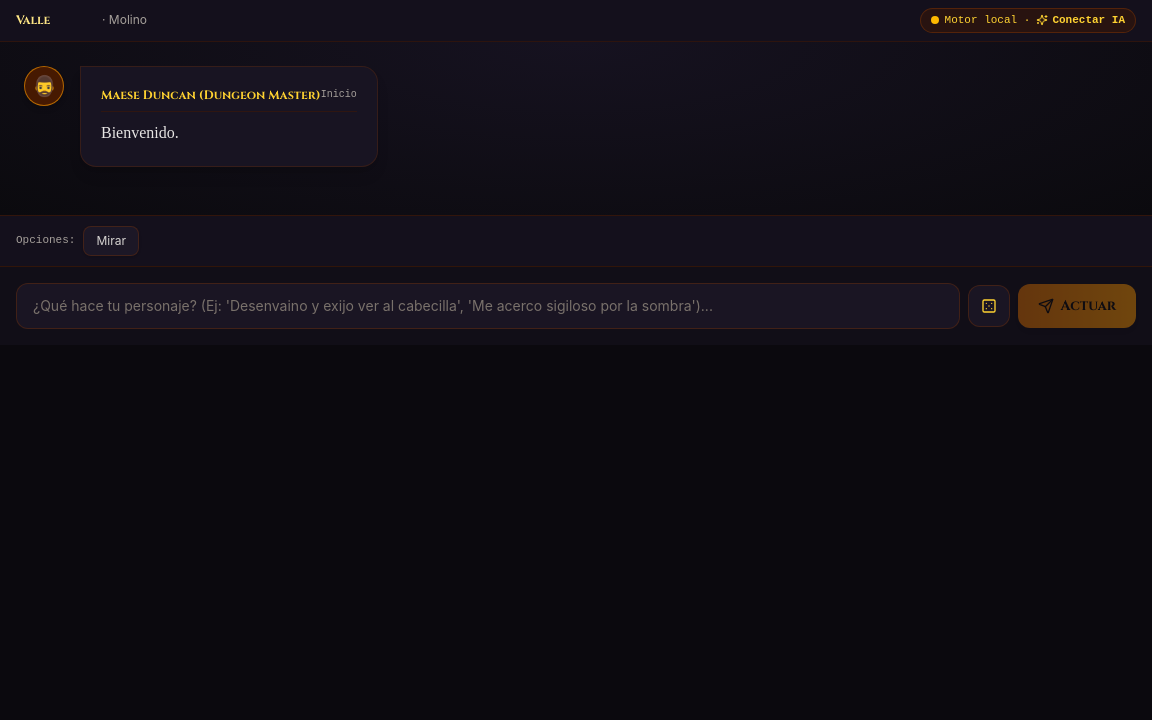
StoryStream › the 🎲 button offers checks with the sheet and the dice tray
What coordinates should you click on to do the following:
click the button named "Tiradas: habilidades con la ficha y bandeja de dados"
I would click on:
 (990, 306)
Its box is [968,285,1010,327].
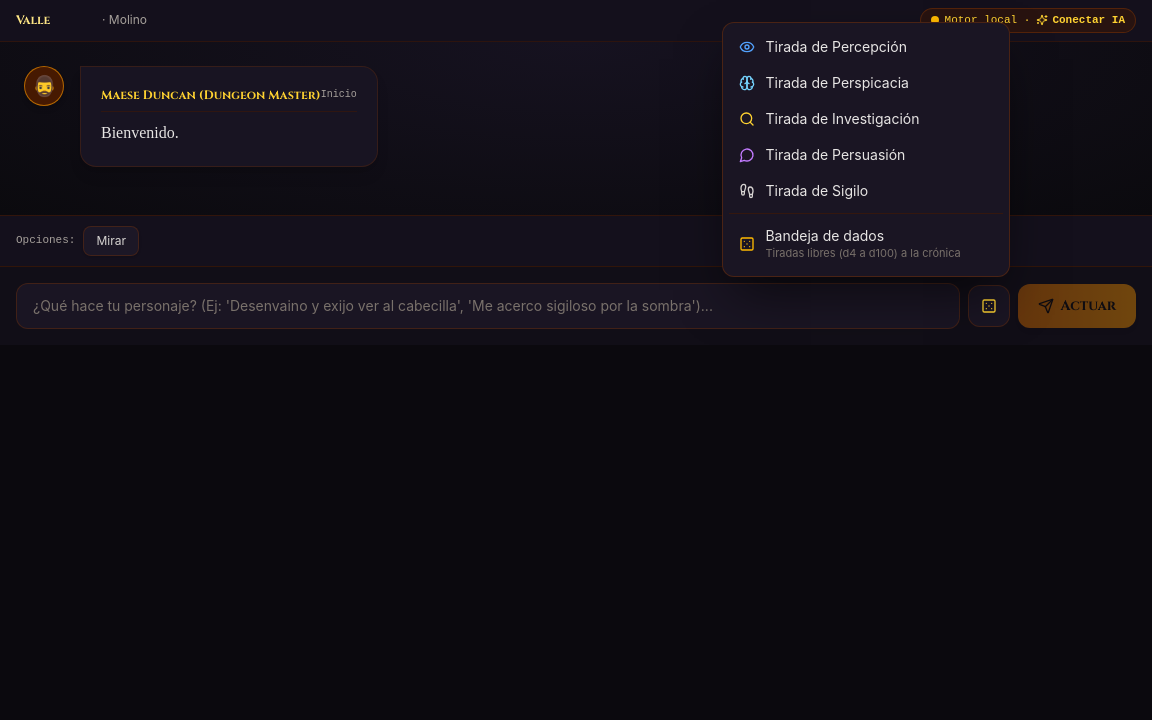
What coordinates should you click on to do the following:
click the menu item "Tirada de Percepción"
I would click on:
 (866, 47)
Its box is [730,29,1004,65].
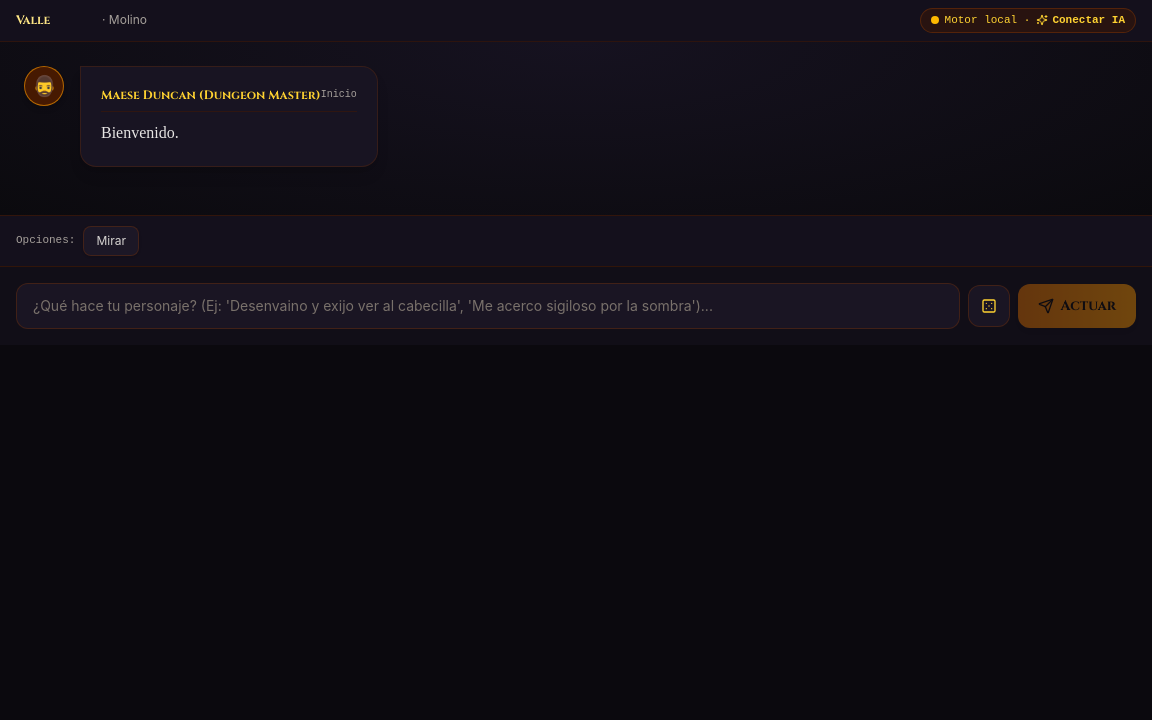
What coordinates should you click on to do the following:
click the button named "Tiradas: habilidades con la ficha y bandeja de dados"
I would click on:
 (990, 306)
Its box is [968,285,1010,327].
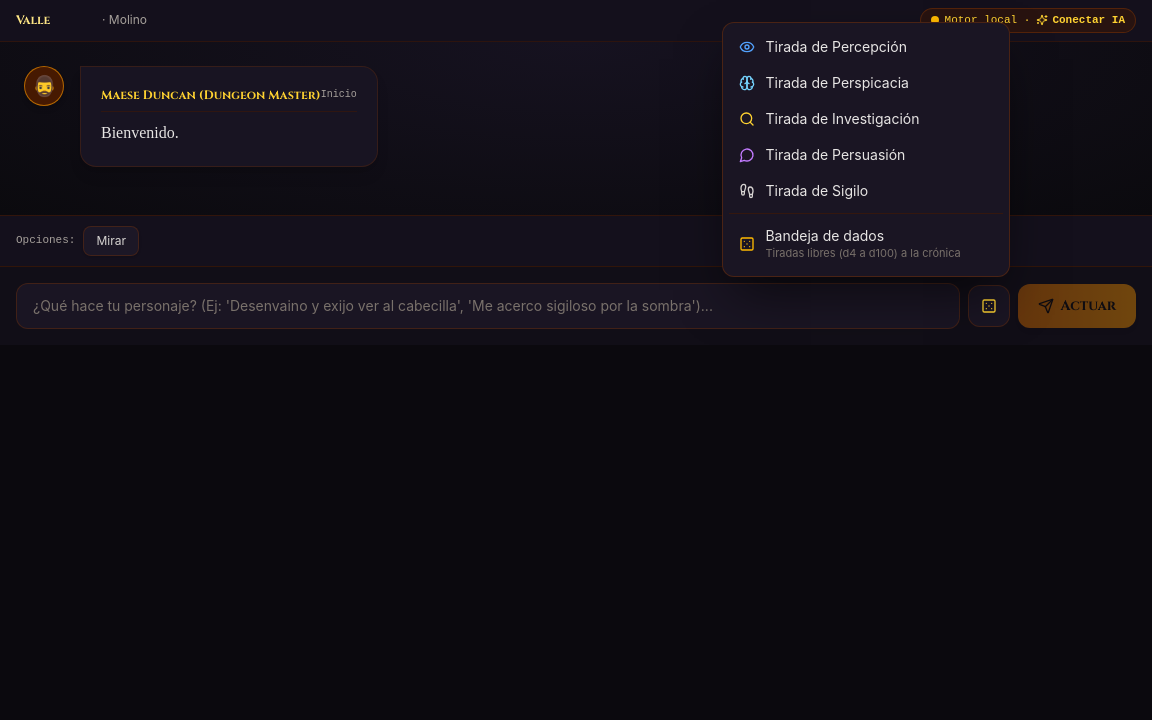
What coordinates should you click on to do the following:
click the menu item "Bandeja de dados Tiradas libres (d4 a d100) a la crónica"
I would click on:
 (866, 244)
Its box is [730,218,1004,270].
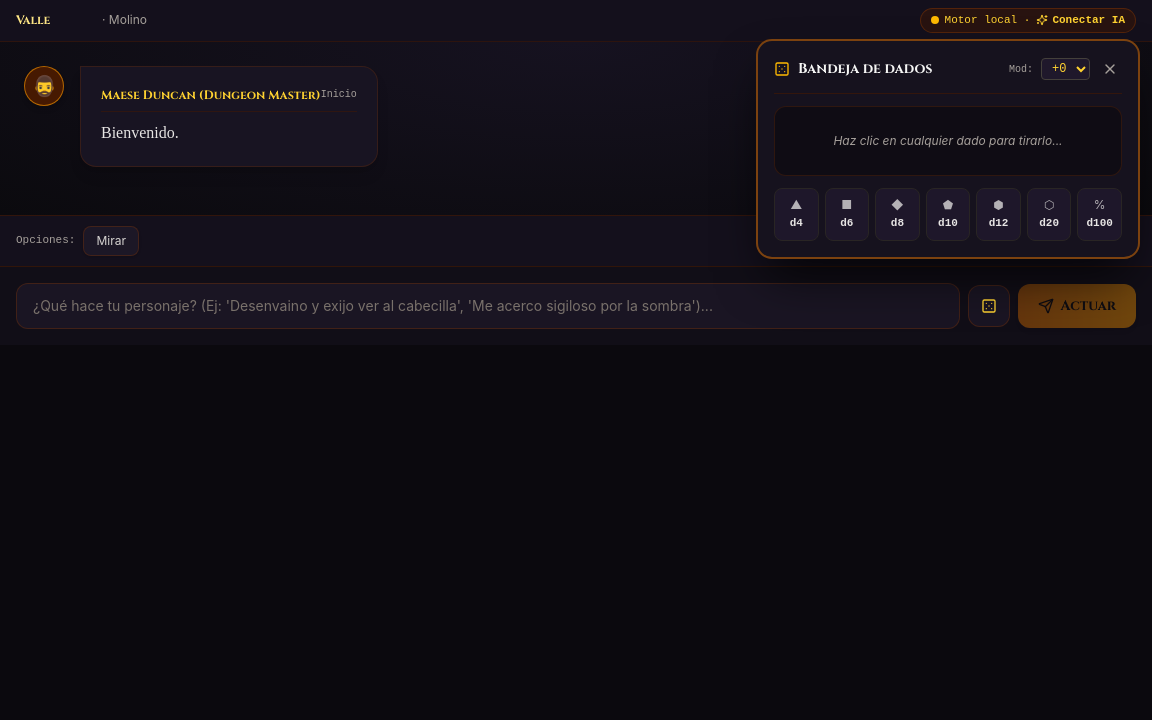
Result: the dialog named "Bandeja de dados" is shown at [756,39,1140,259]
What coordinates should you click on to do the following:
click the button named "Cerrar la bandeja de dados"
I would click on:
 (1110, 69)
Its box is [1098,57,1122,81].
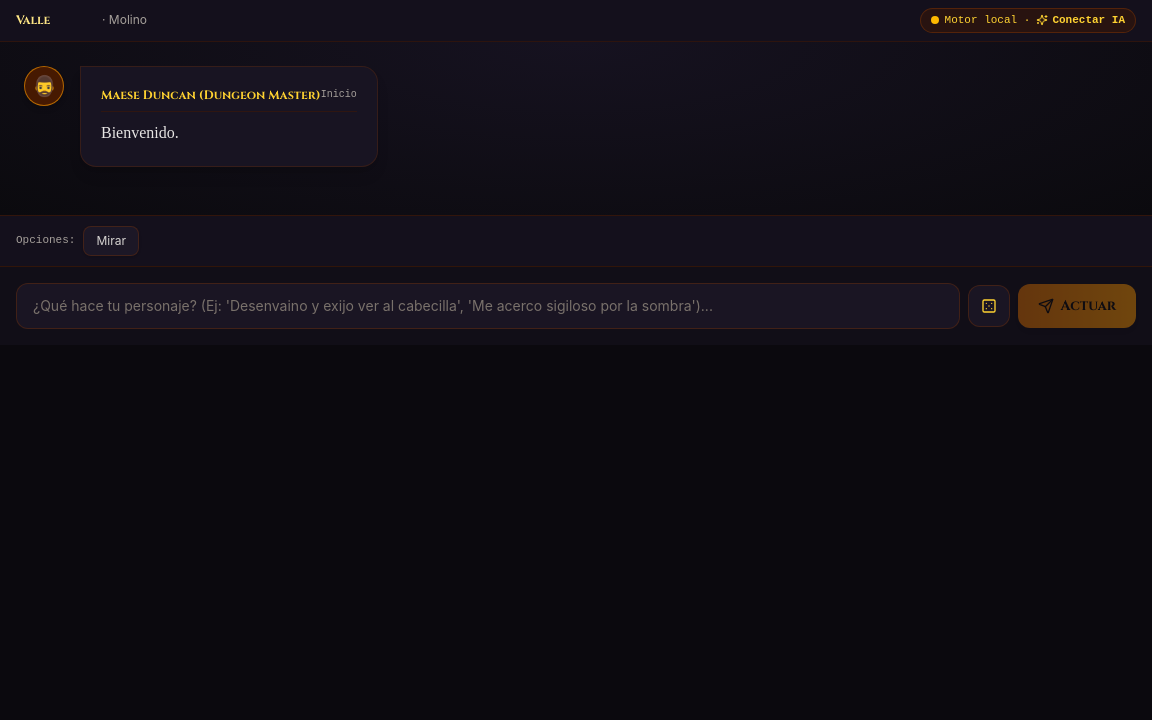
Result: the dialog is gone
